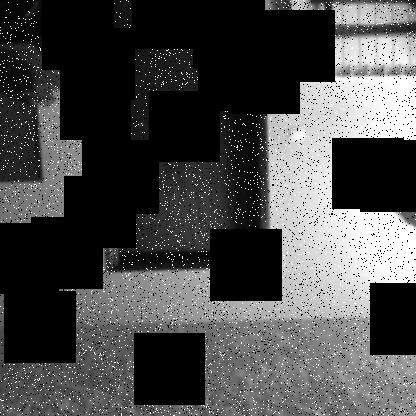Porte: (89, 1, 270, 275)
